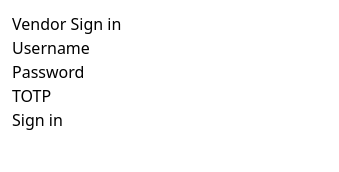
Test: auth login › a malformed token on a 200 response fails safely (no token, no principal, no crash)
In the field labelled "Username": (205, 48) [90,36,321,60], type "alice"
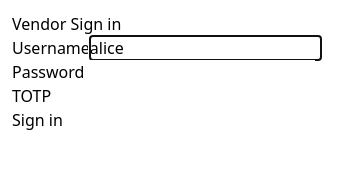
In the password field labelled "Password": (200, 72) [84,60,315,84], type "pw"
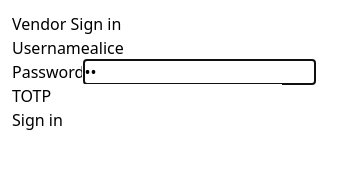
In the field labelled "TOTP": (167, 96) [51,84,282,108], type "123456"
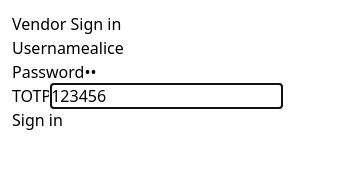
Click the button "Sign in": (37, 120) [12,108,63,132]
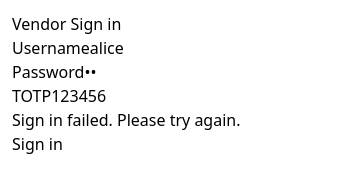
Expected: the message "Sign in failed. Please try again." is shown, [12,109,240,131]
